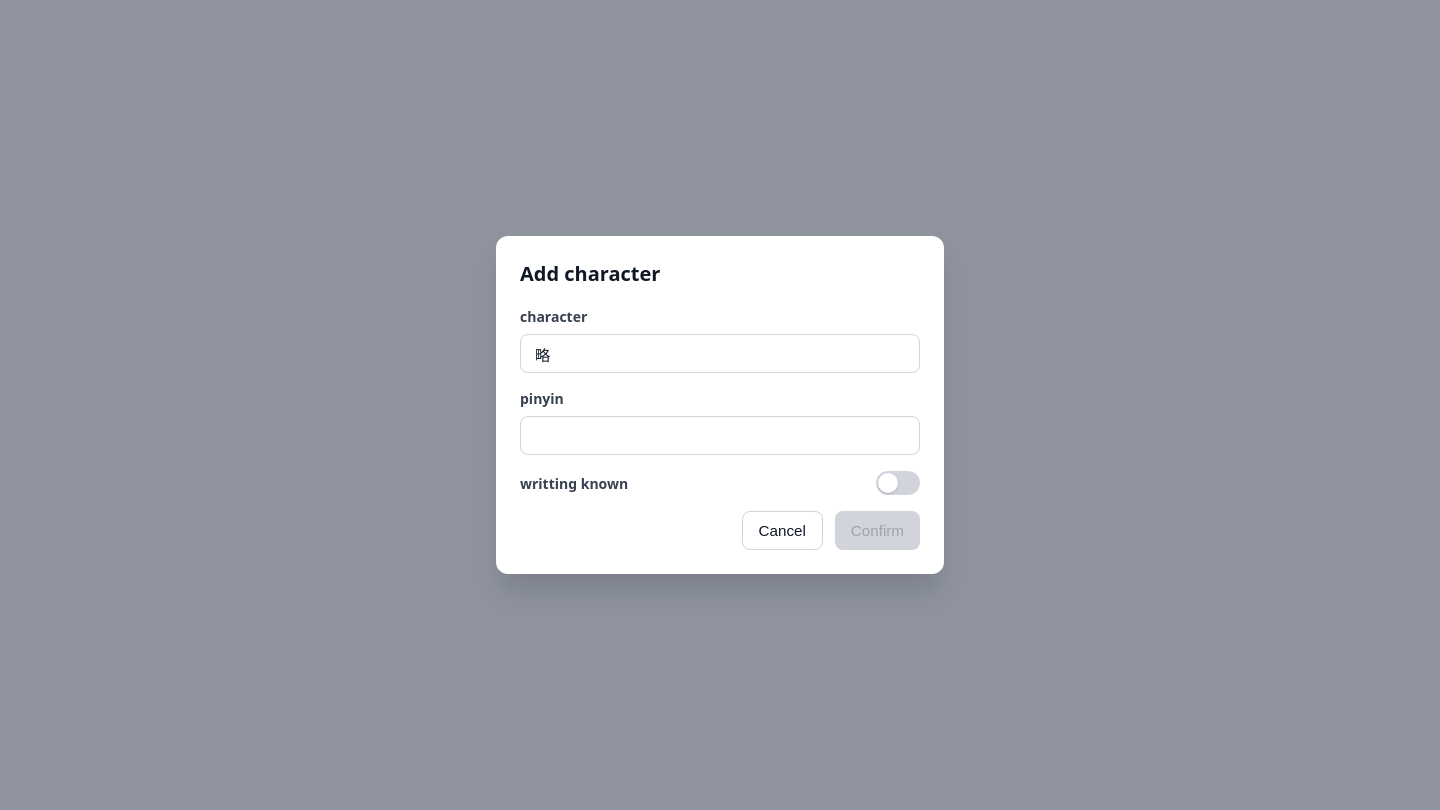
Test: CharacterFormModal › suggests ü pinyin when u-for-ü would make the value valid
The image size is (1440, 810).
Type "lue4" into the field labelled "pinyin".
click(720, 436); type("lue4")  # box x1=520 y1=416 x2=920 y2=455
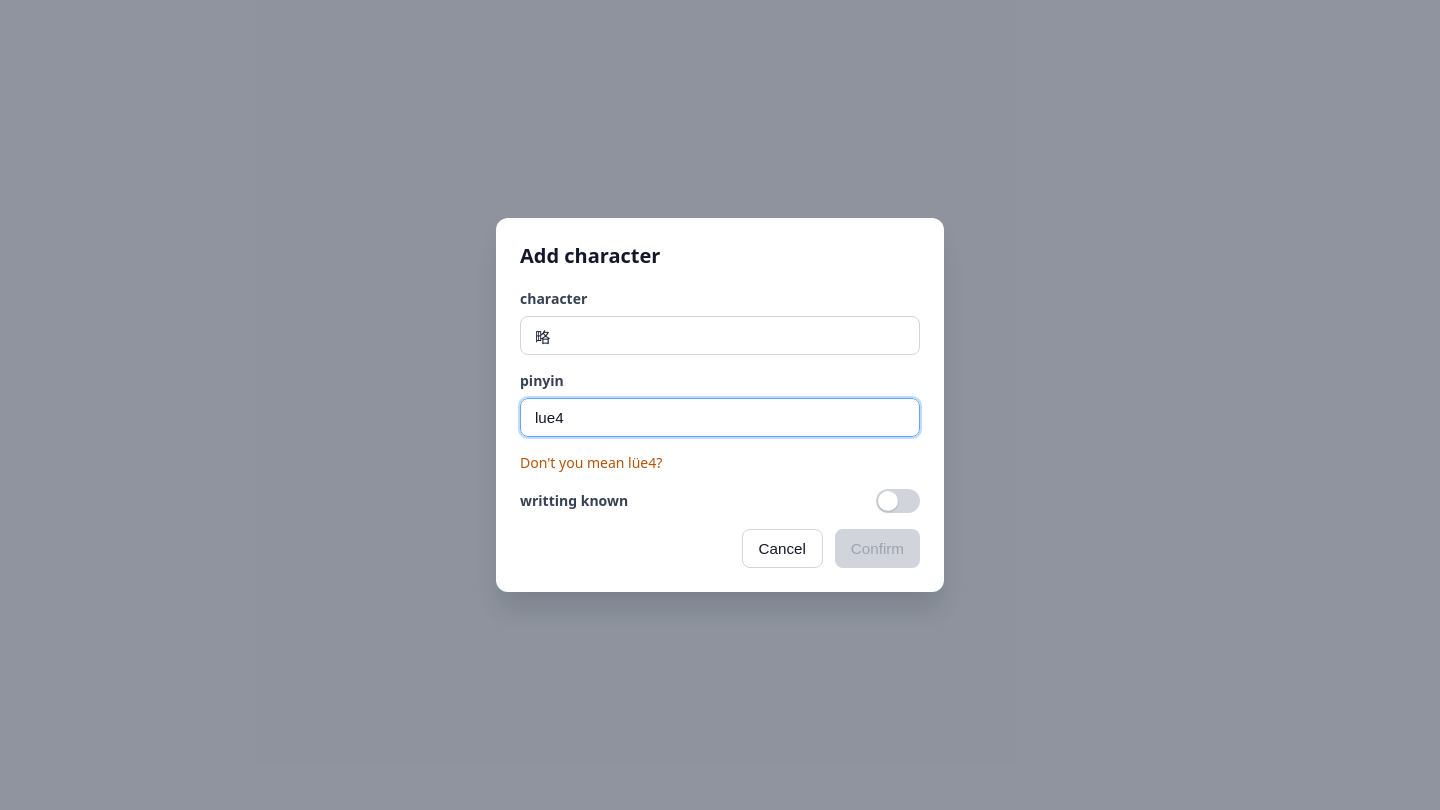
Expected: the button "Confirm" is disabled, x1=835 y1=529 x2=920 y2=568
Expected: the text "Don't you mean lüe4?" is shown, x1=520 y1=453 x2=662 y2=472
